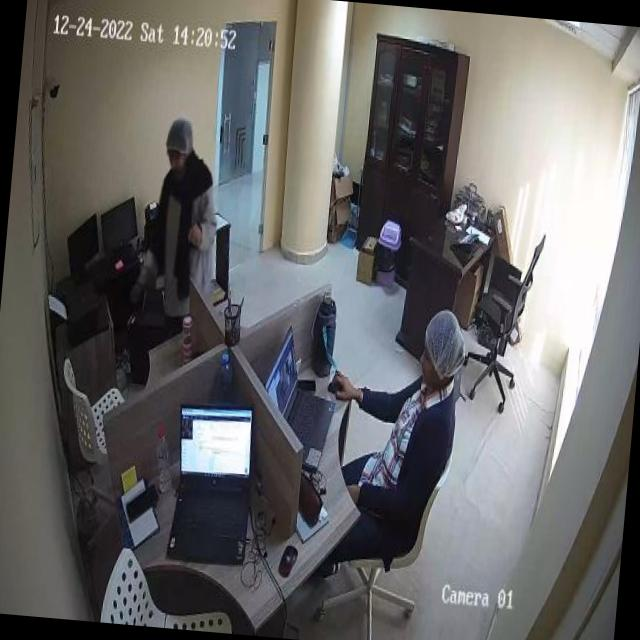hairnet: (422, 307, 472, 376), (166, 118, 196, 152)
